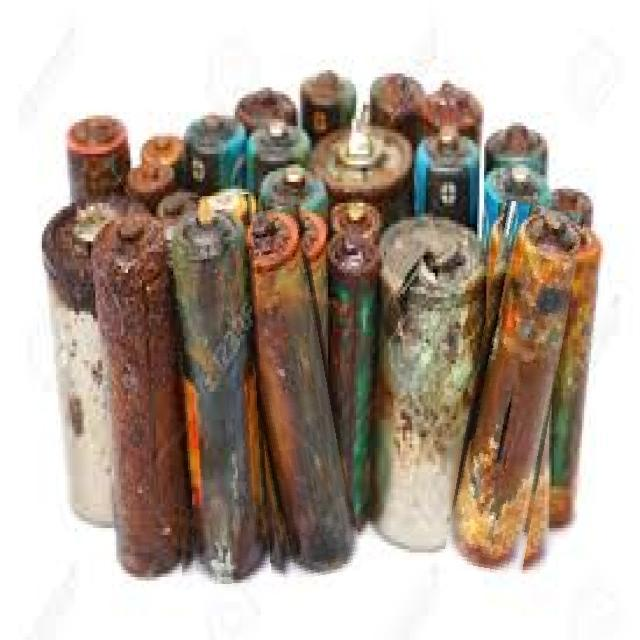Battery: (468, 219, 626, 573), (368, 218, 493, 588), (19, 193, 137, 558), (252, 220, 364, 575), (168, 206, 266, 593), (94, 230, 194, 578), (329, 224, 369, 546), (309, 99, 417, 205), (405, 114, 485, 229), (257, 144, 333, 206), (52, 115, 136, 171), (418, 76, 493, 134), (354, 64, 424, 125), (219, 89, 303, 137), (181, 110, 251, 162), (286, 67, 354, 117), (248, 123, 314, 173), (483, 118, 558, 157), (139, 134, 193, 164)
